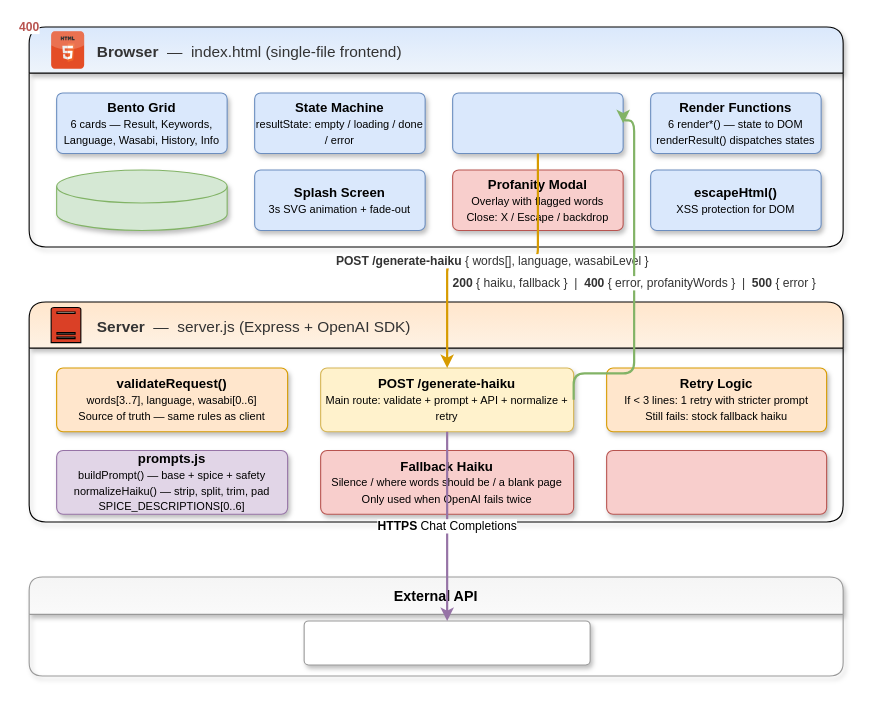
Image size: 869x703. Some labels were removed from this diagram. The shapes that lost their labels are listed below. From the top down, each one's centre as x and y in pixels, then its label:
At point (538, 124): "API Client fetch POST /generate-haiku AbortController (30s timeout)".
At point (142, 201): "History localStorage, max 100 entries".
At point (717, 483): "Content Filter OpenAI content_filter error returns 400 with profanityWords[]".
At point (448, 644): "OpenAI API gpt-5-nano-2025-08-07 | reasoning_effort: low | temperature: 0.8".
